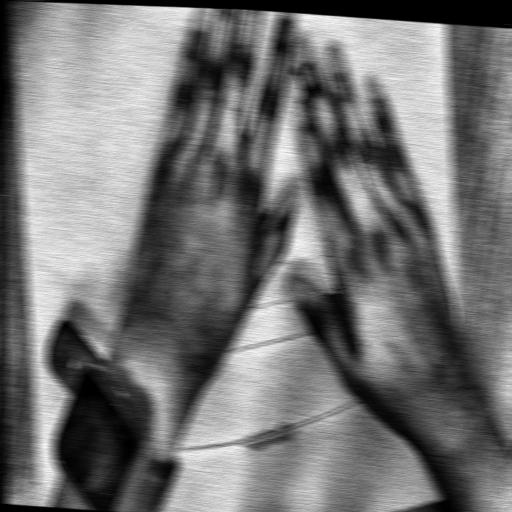boat: (79, 0, 422, 474)
bottom_right: (457, 477, 470, 493)
top_left: (7, 0, 15, 9)
